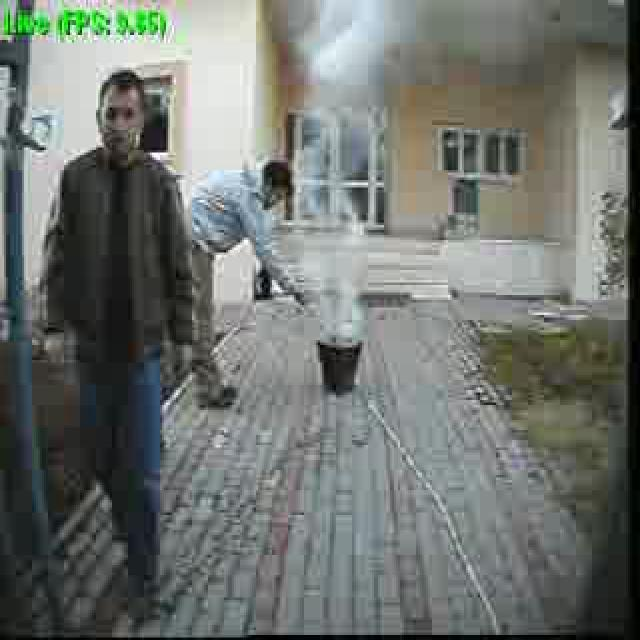Smoke: (308, 23, 362, 322)
